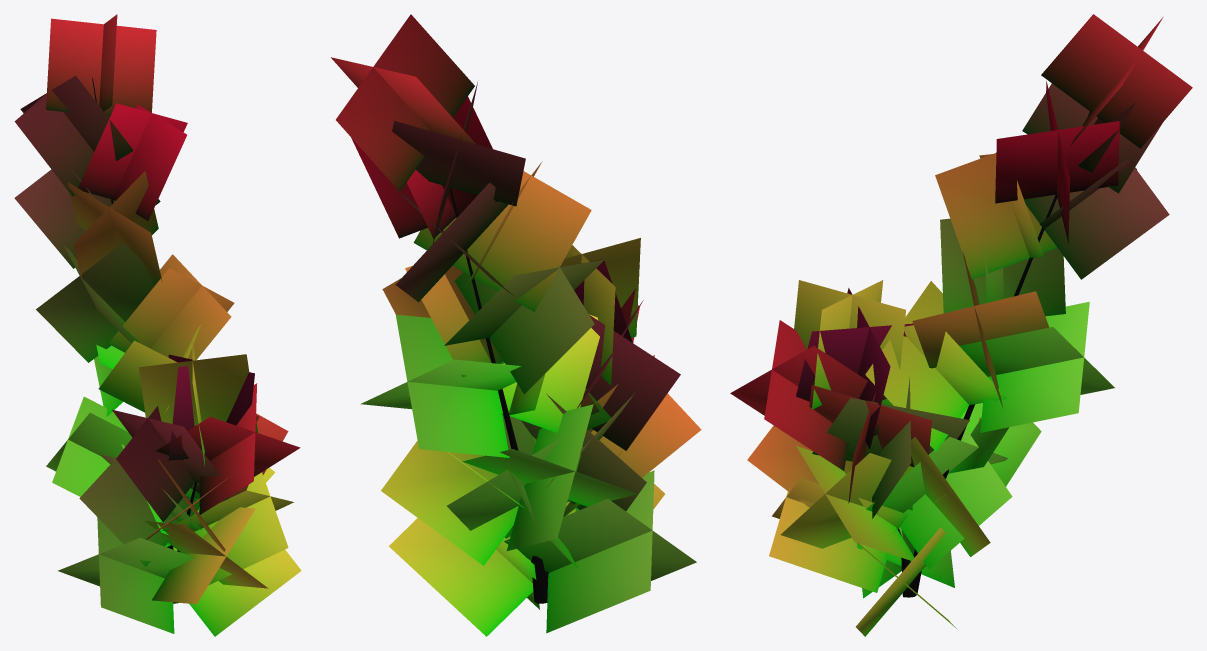
File: Tree_10.fbx
3 renders of one model, left to right at view 1: azimuth 30°, elevation 25°; view 2: azimuth 150°, elevation 25°; view 3: azimuth 270°, elevation 25°, orthographic. The views are drawn at different scales.
Visible parts, largest first — view 1: Tree_10; view 2: Tree_10; view 3: Tree_10.
Boxes of the visible parts, bbox=[...] form: Tree_10: bbox=[14, 14, 301, 636]; Tree_10: bbox=[331, 14, 701, 636]; Tree_10: bbox=[730, 14, 1192, 636].
Bounding box in the file's own units: 442 × 1116 × 750.
